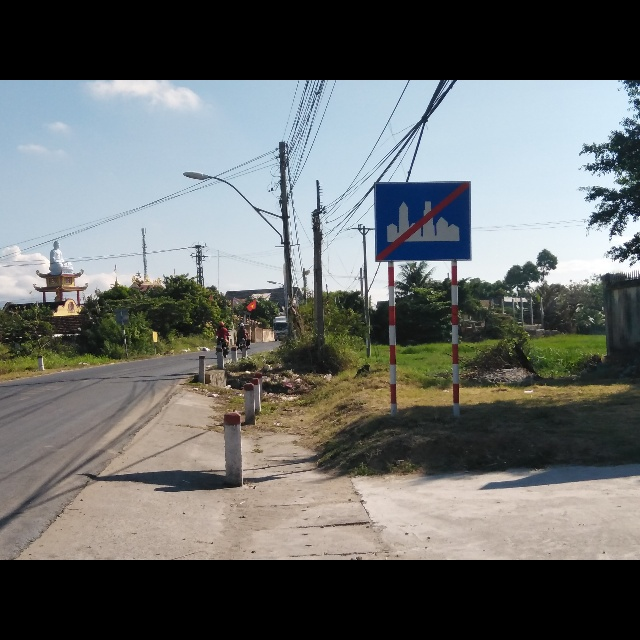Hết khu đông dân cư: (373, 180, 472, 260)
